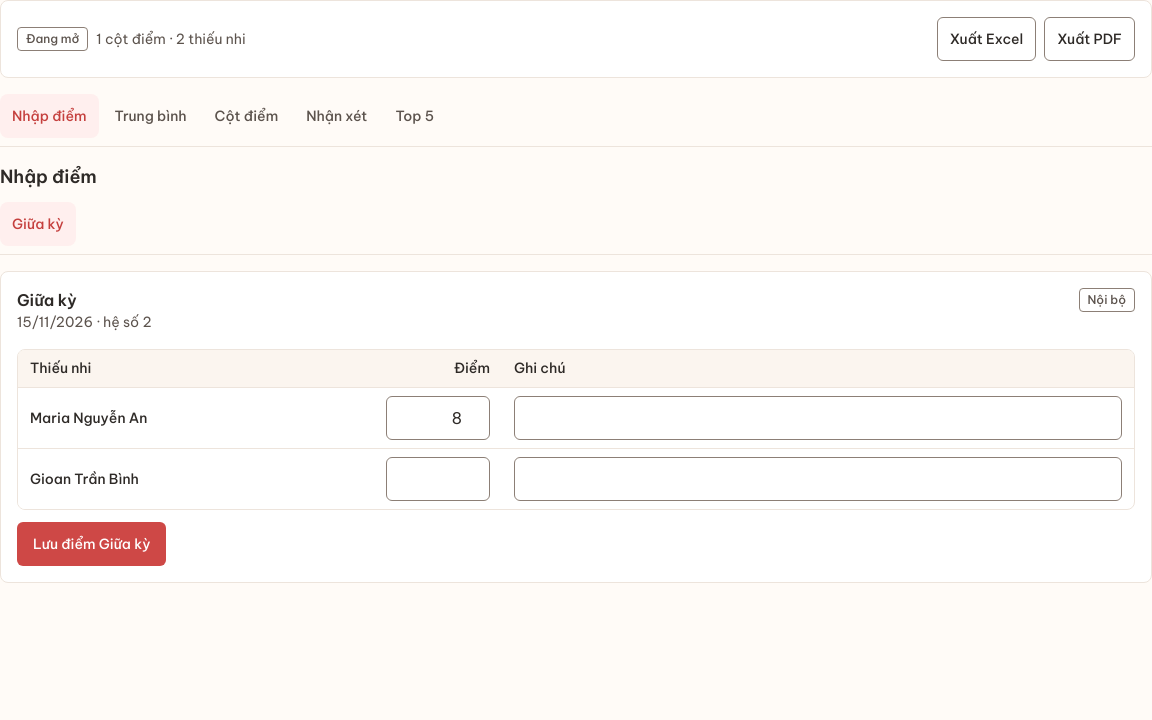
Test: gradebook editor › loại chưa có cấu hình thì rơi về lưới an toàn thay vì để ô trống
Click the button "Cột điểm".
click(246, 116)  # box [203,94,290,138]
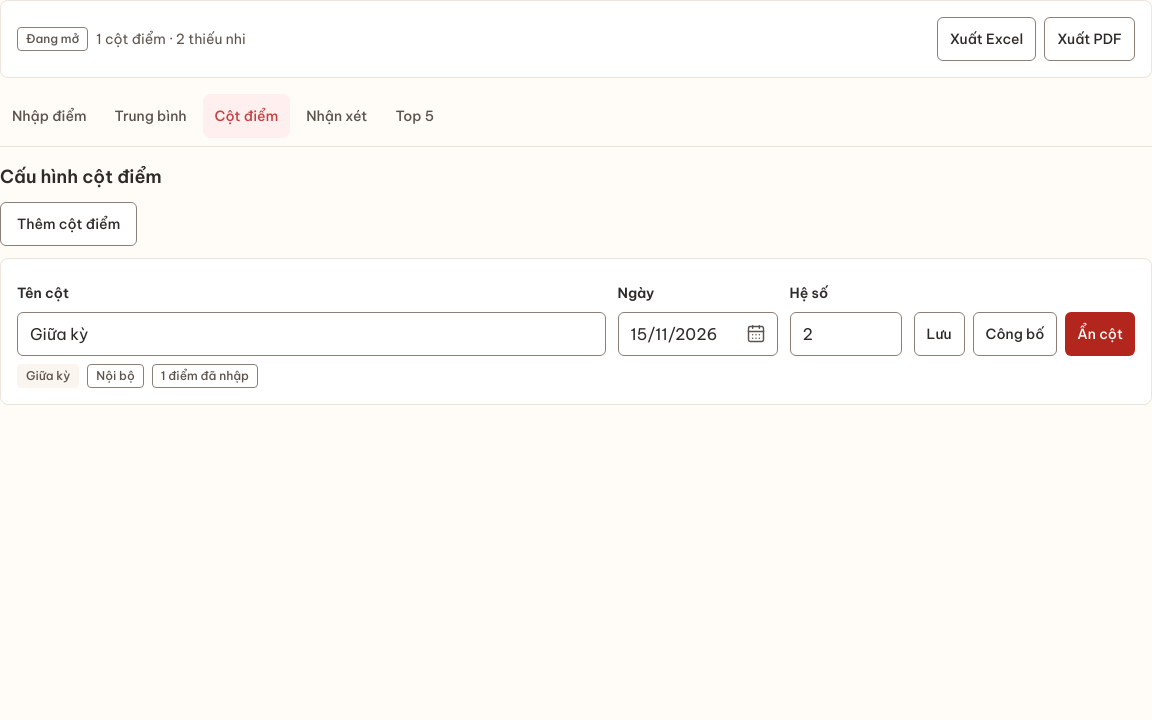
Click the button "Thêm cột điểm".
click(69, 224)  # box [0,202,137,246]
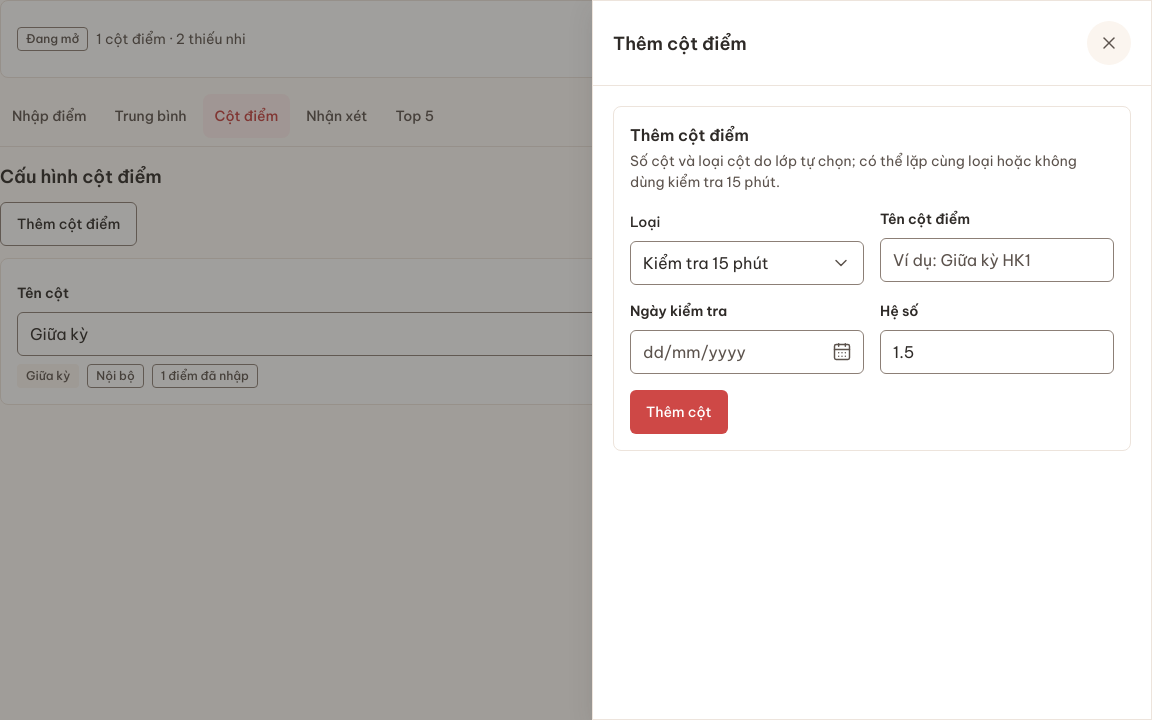
// `custom` không có trong `defaultWeights` của năm học này.
Select "Kiểm tra phát sinh" in the dropdown labelled "Loại" at (747, 247), box [630,209,864,285]
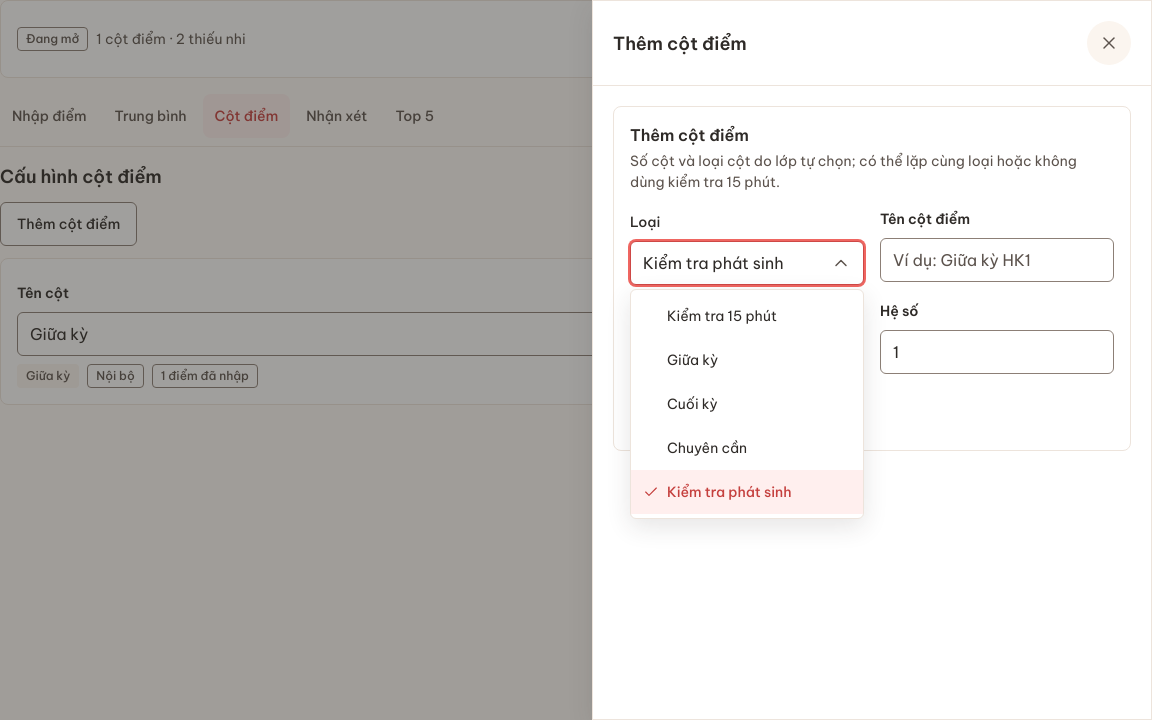
Expected: the number field with id "new-assessment-weight-custom" holds "1", [880,330,1114,374]
